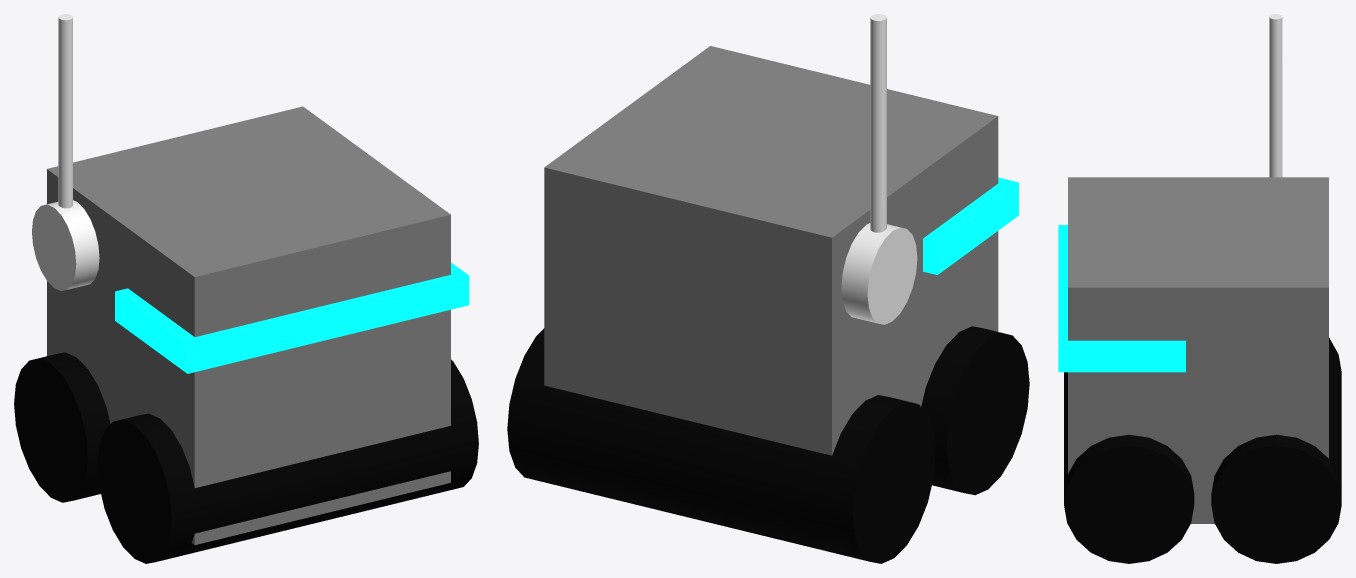
Rendered from Robot.gltf.
3 views of the same model, side by side, from view 1: azimuth 30°, elevation 25°; view 2: azimuth 150°, elevation 25°; view 3: azimuth 270°, elevation 25° (orthographic). The views are drawn at different scales.
Parts seen in each view (by area): view 1: Robot, Cylinder, Cube, Cylinder (1), Cylinder (2), Cylinder (3); view 2: Robot, Cylinder (1), Cylinder, Cylinder (2), Cube, Cylinder (3); view 3: Robot, Cylinder (1), Cylinder, Cube, Cylinder (3).
Boxes of the visible parts, <box> form: Robot: <box>47,106,450,544</box>; Cylinder: <box>97,359,478,563</box>; Cube: <box>115,262,469,373</box>; Cylinder (1): <box>14,352,110,502</box>; Cylinder (2): <box>32,200,99,290</box>; Cylinder (3): <box>58,14,72,208</box>; Robot: <box>544,46,998,455</box>; Cylinder (1): <box>507,328,935,563</box>; Cylinder: <box>921,326,1029,495</box>; Cylinder (2): <box>841,223,917,324</box>; Cube: <box>923,177,1018,274</box>; Cylinder (3): <box>870,14,886,232</box>; Robot: <box>1068,177,1328,523</box>; Cylinder (1): <box>1211,338,1341,563</box>; Cylinder: <box>1064,372,1194,563</box>; Cube: <box>1058,225,1185,372</box>; Cylinder (3): <box>1269,14,1282,177</box>.
Size of the model in its own units: 0.6 by 0.8905 by 0.5435.
